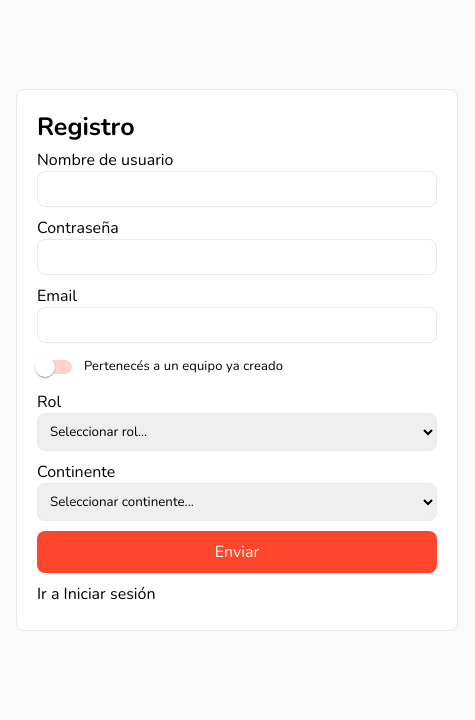
submit empty field shows required fields
What coordinates should you click on to do the following:
click the button
I would click on:
 (237, 552)
Its box is [37, 531, 437, 573].
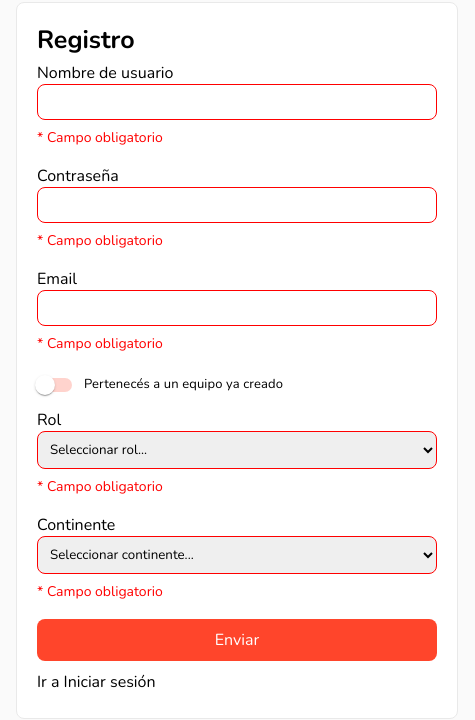
Result: the text "* Campo obligatorio" is shown 5 times at [37, 128, 163, 146]; [37, 230, 163, 250]; [37, 334, 163, 352]; [37, 476, 163, 496]; [37, 582, 163, 600]
Result: the text "* Campo obligatorio" below "Nombre de usuario" is shown at [37, 128, 163, 146]
